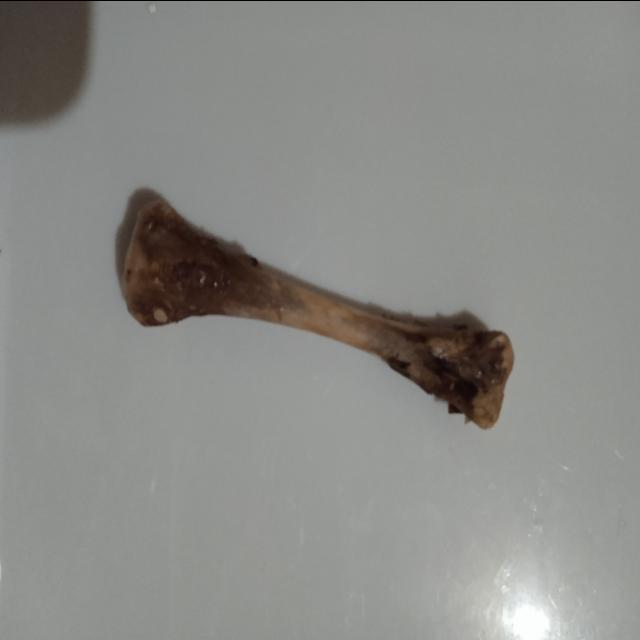bone: (118, 190, 516, 436)
